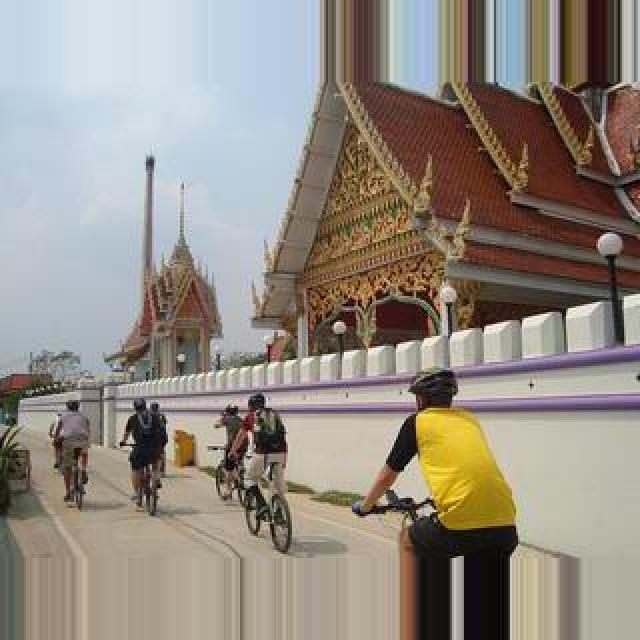MC-Bike: (354, 368, 518, 552), (228, 390, 290, 528), (118, 396, 168, 506), (52, 398, 92, 502)
Person: (232, 454, 294, 554)
